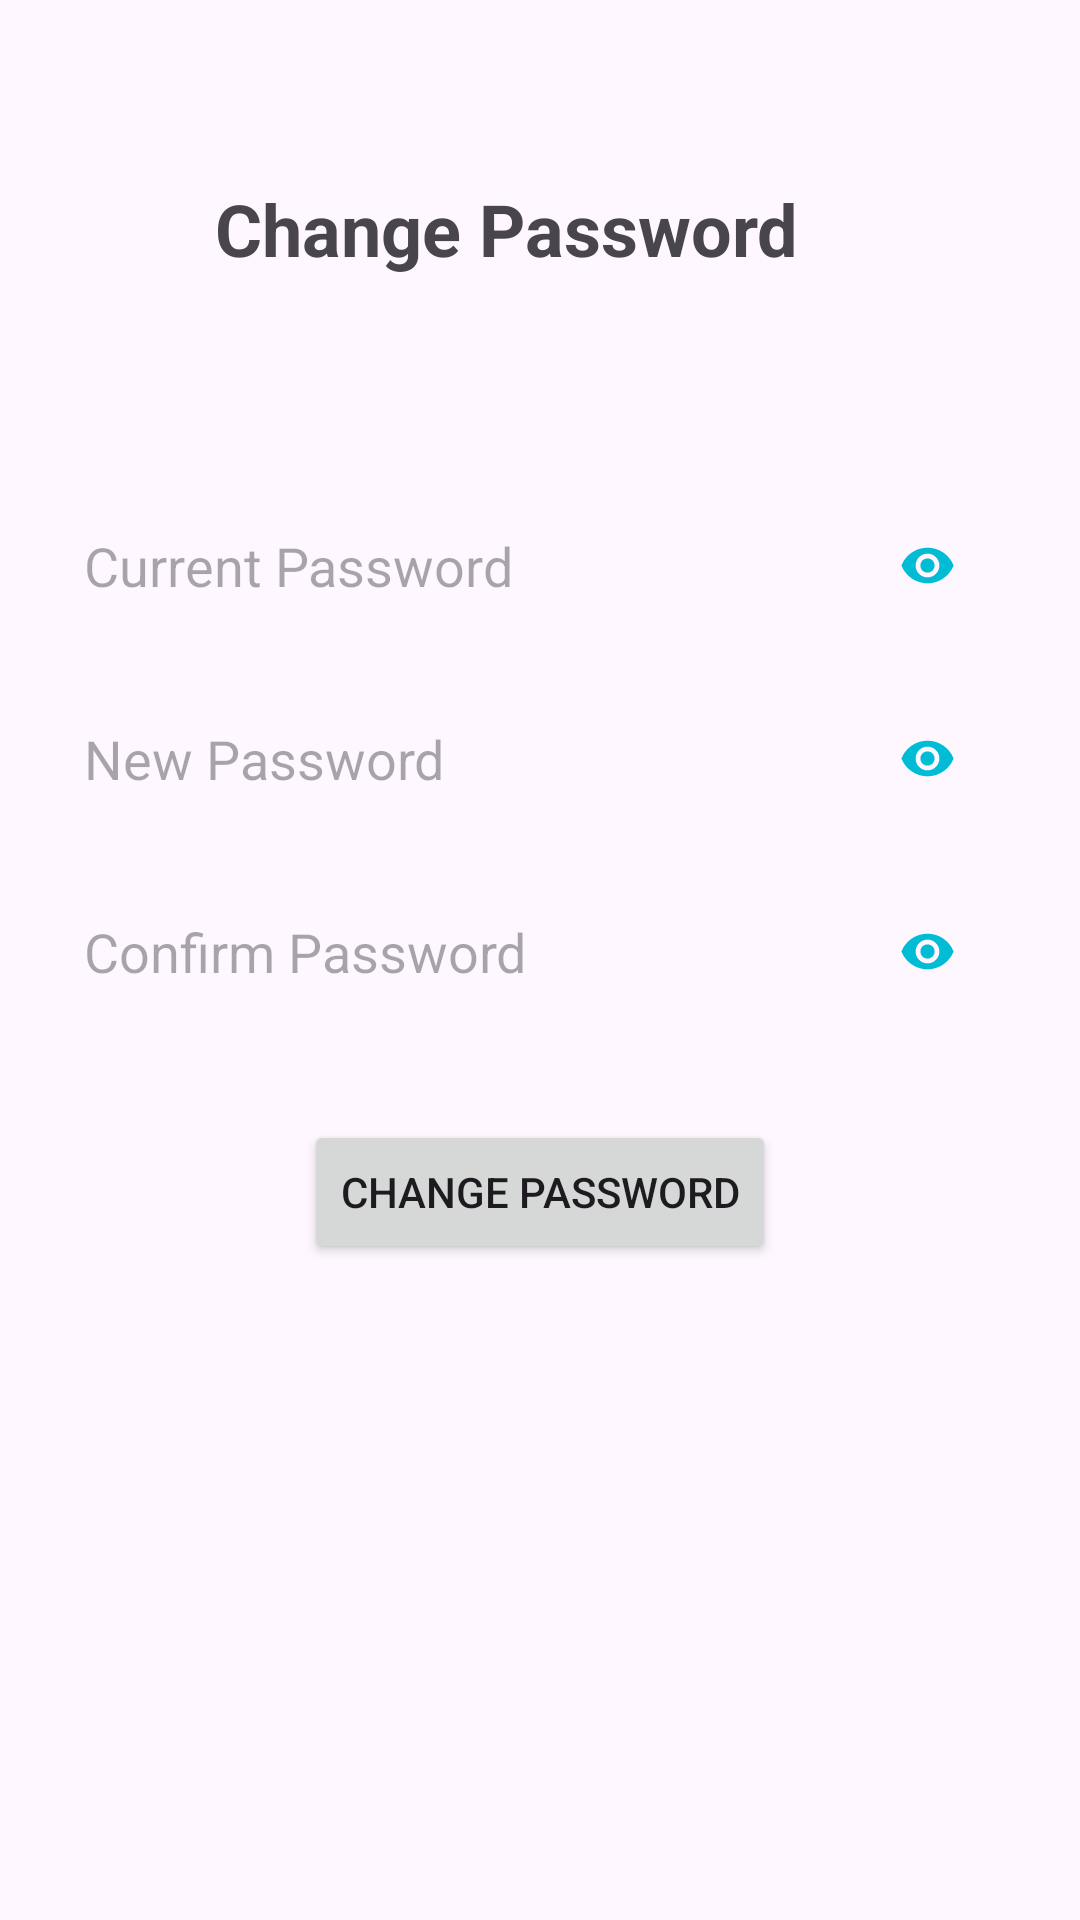

Icons on this 1080x1920 Android screen, each with its box as (x1, y1, x2, y2):
show password: (901, 547, 954, 584), (901, 740, 954, 777), (901, 933, 954, 970)
